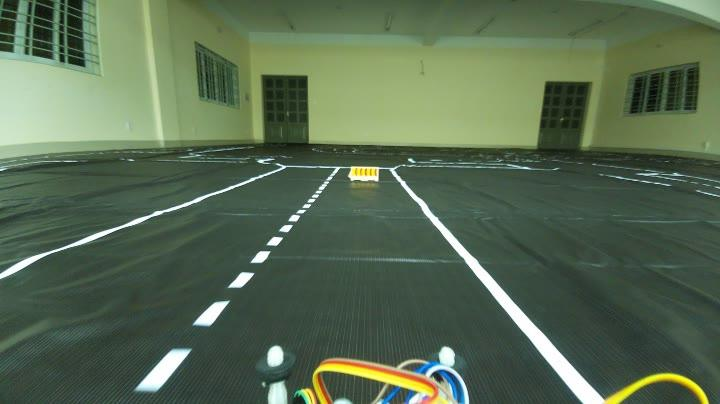roadblock: (344, 162, 384, 192)
